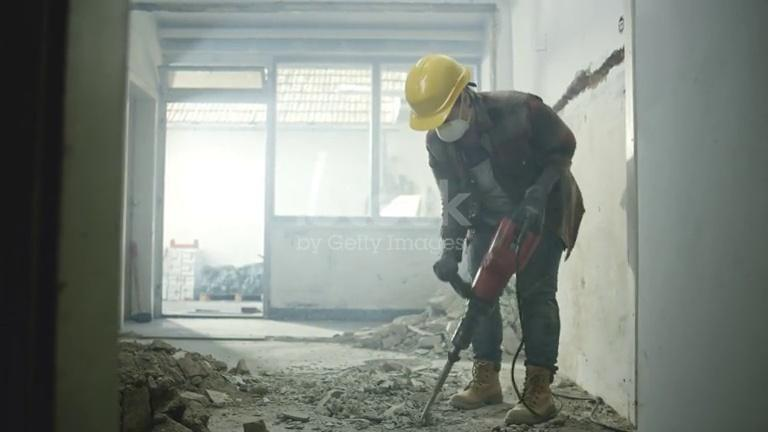helmet: (405, 53, 473, 131)
mask: (434, 117, 471, 143)
person: (405, 50, 586, 427)
